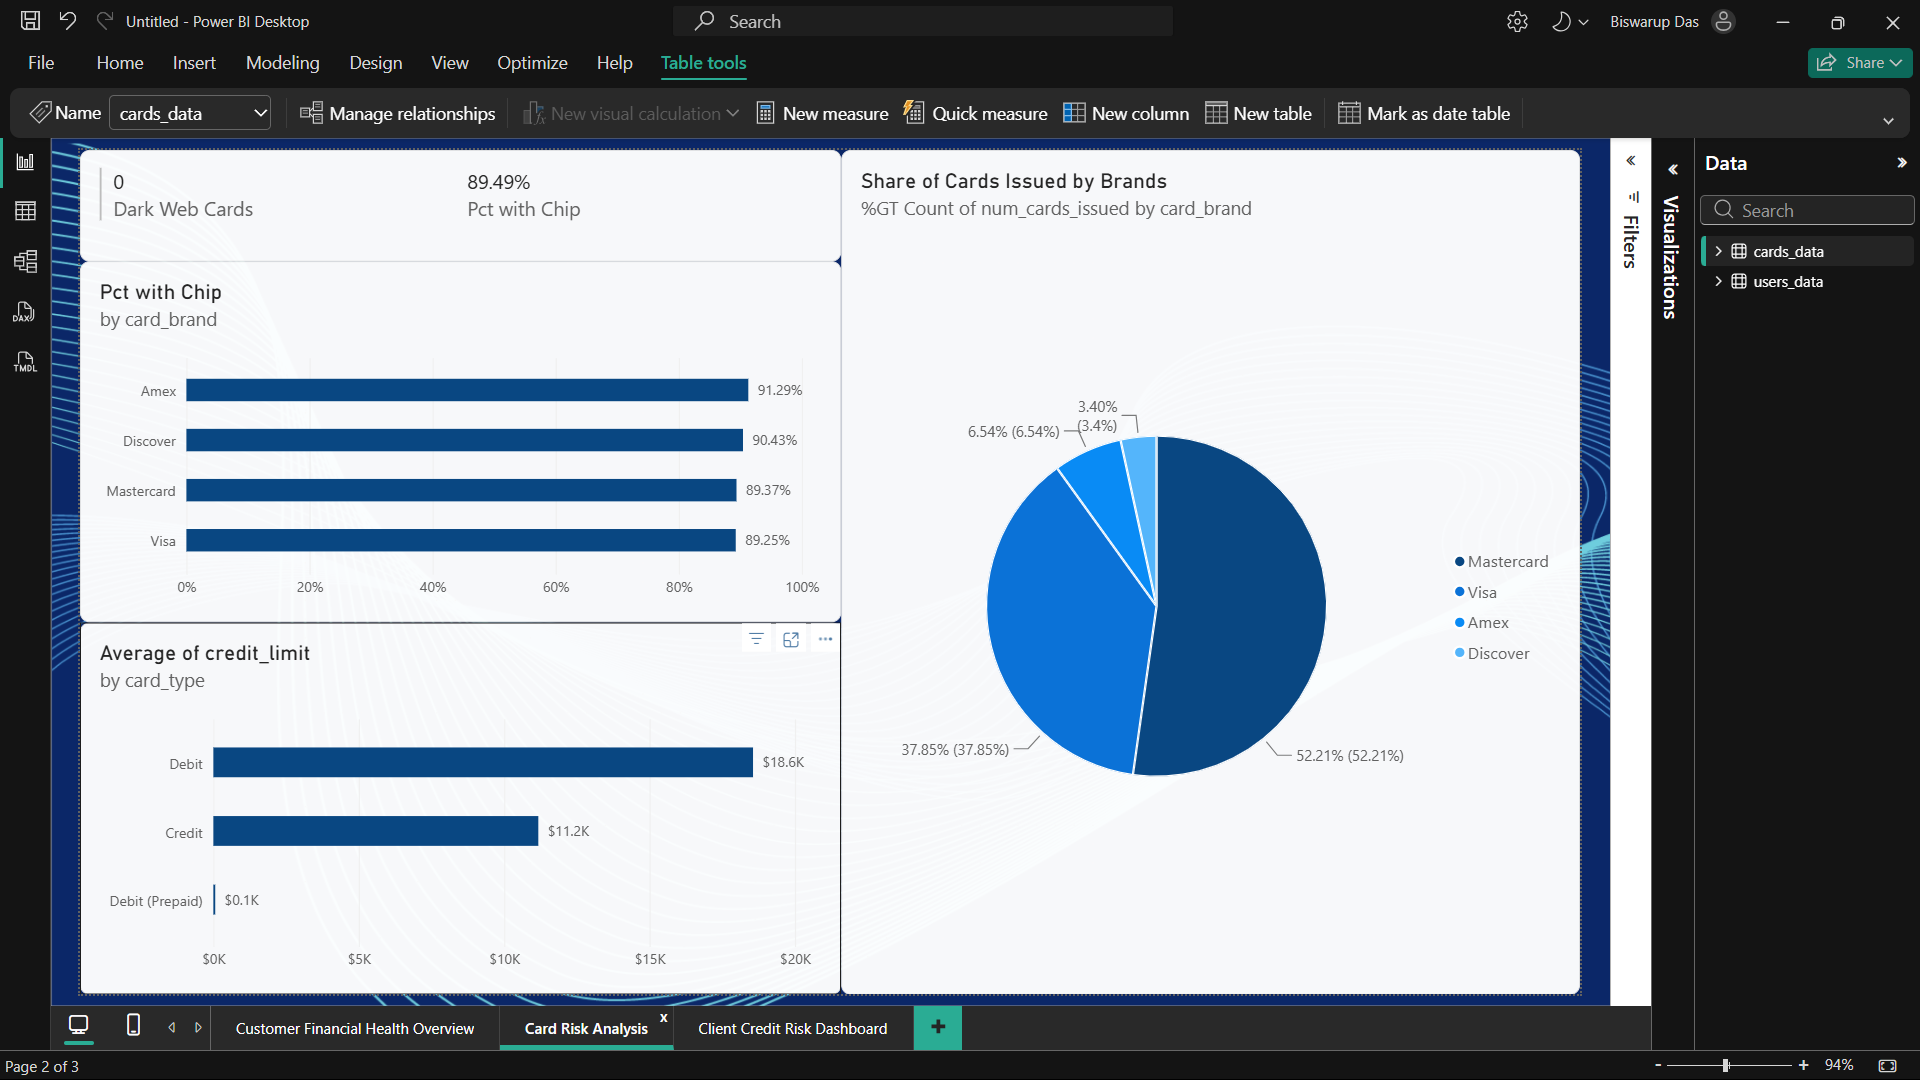

What the dashboard file says about the page in this screenshot:
{"tool":"powerbi","page":{"name":"Card Risk Analysis","canvas":[1280,720],"ordinal":1},"visuals":[{"type":"multiRowCard","fields":{"Values":["cards_data.Dark Web Cards","cards_data.Pct with Chip"]},"box":[0,0,649.5,94.8],"z":0},{"type":"clusteredBarChart","fields":{"Category":["cards_data.card_brand"],"Y":["cards_data.Pct with Chip"]},"box":[0,94.8,649.5,308.1],"z":1000},{"type":"barChart","fields":{"Category":["cards_data.card_type"],"Y":["Avg(cards_data.credit_limit)"]},"box":[0,403,649.5,317.6],"z":2000},{"type":"pieChart","title":"Share of Cards Issued by Brands","fields":{"Category":["cards_data.card_brand"],"Y":["Sum(cards_data.num_cards_issued)"]},"box":[649.5,0,630.5,720.6],"z":3000}]}

Visuals, with their boxes on the page's 1280x720 design canvas (x1, y1, x2, y2). These are canvas units, not pixel positions in the 1920x1080 screenshot, which may show the page scaled, cropped or inside an application window:
multiRowCard - cards_data.Dark Web Cards x cards_data.Pct with Chip: x1=0 y1=0 x2=650 y2=95
clusteredBarChart - cards_data.card_brand x cards_data.Pct with Chip: x1=0 y1=95 x2=650 y2=403
barChart - cards_data.card_type x Avg(cards_data.credit_limit): x1=0 y1=403 x2=650 y2=721
"Share of Cards Issued by Brands" pieChart: x1=650 y1=0 x2=1280 y2=721
